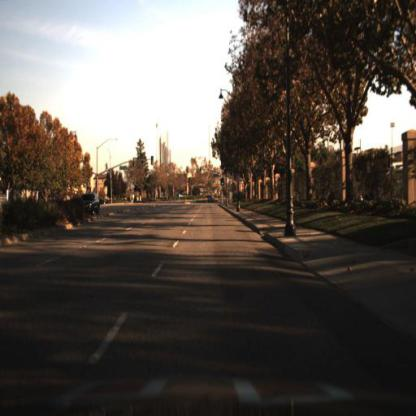car: (72, 190, 102, 222), (207, 190, 219, 208)
trafficLight-Green: (219, 176, 226, 190), (198, 166, 204, 179)
trafficLight-RedLeft: (185, 163, 191, 176)
